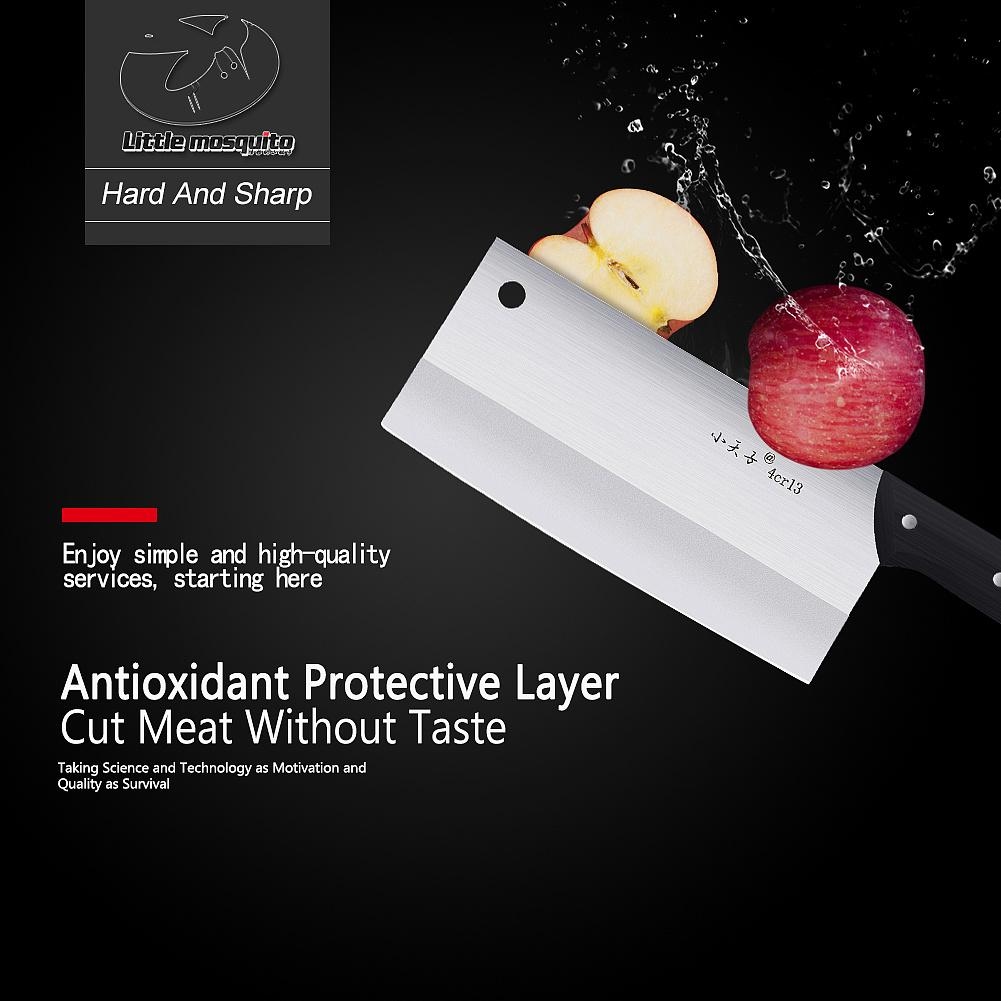knife: (354, 195, 987, 758)
